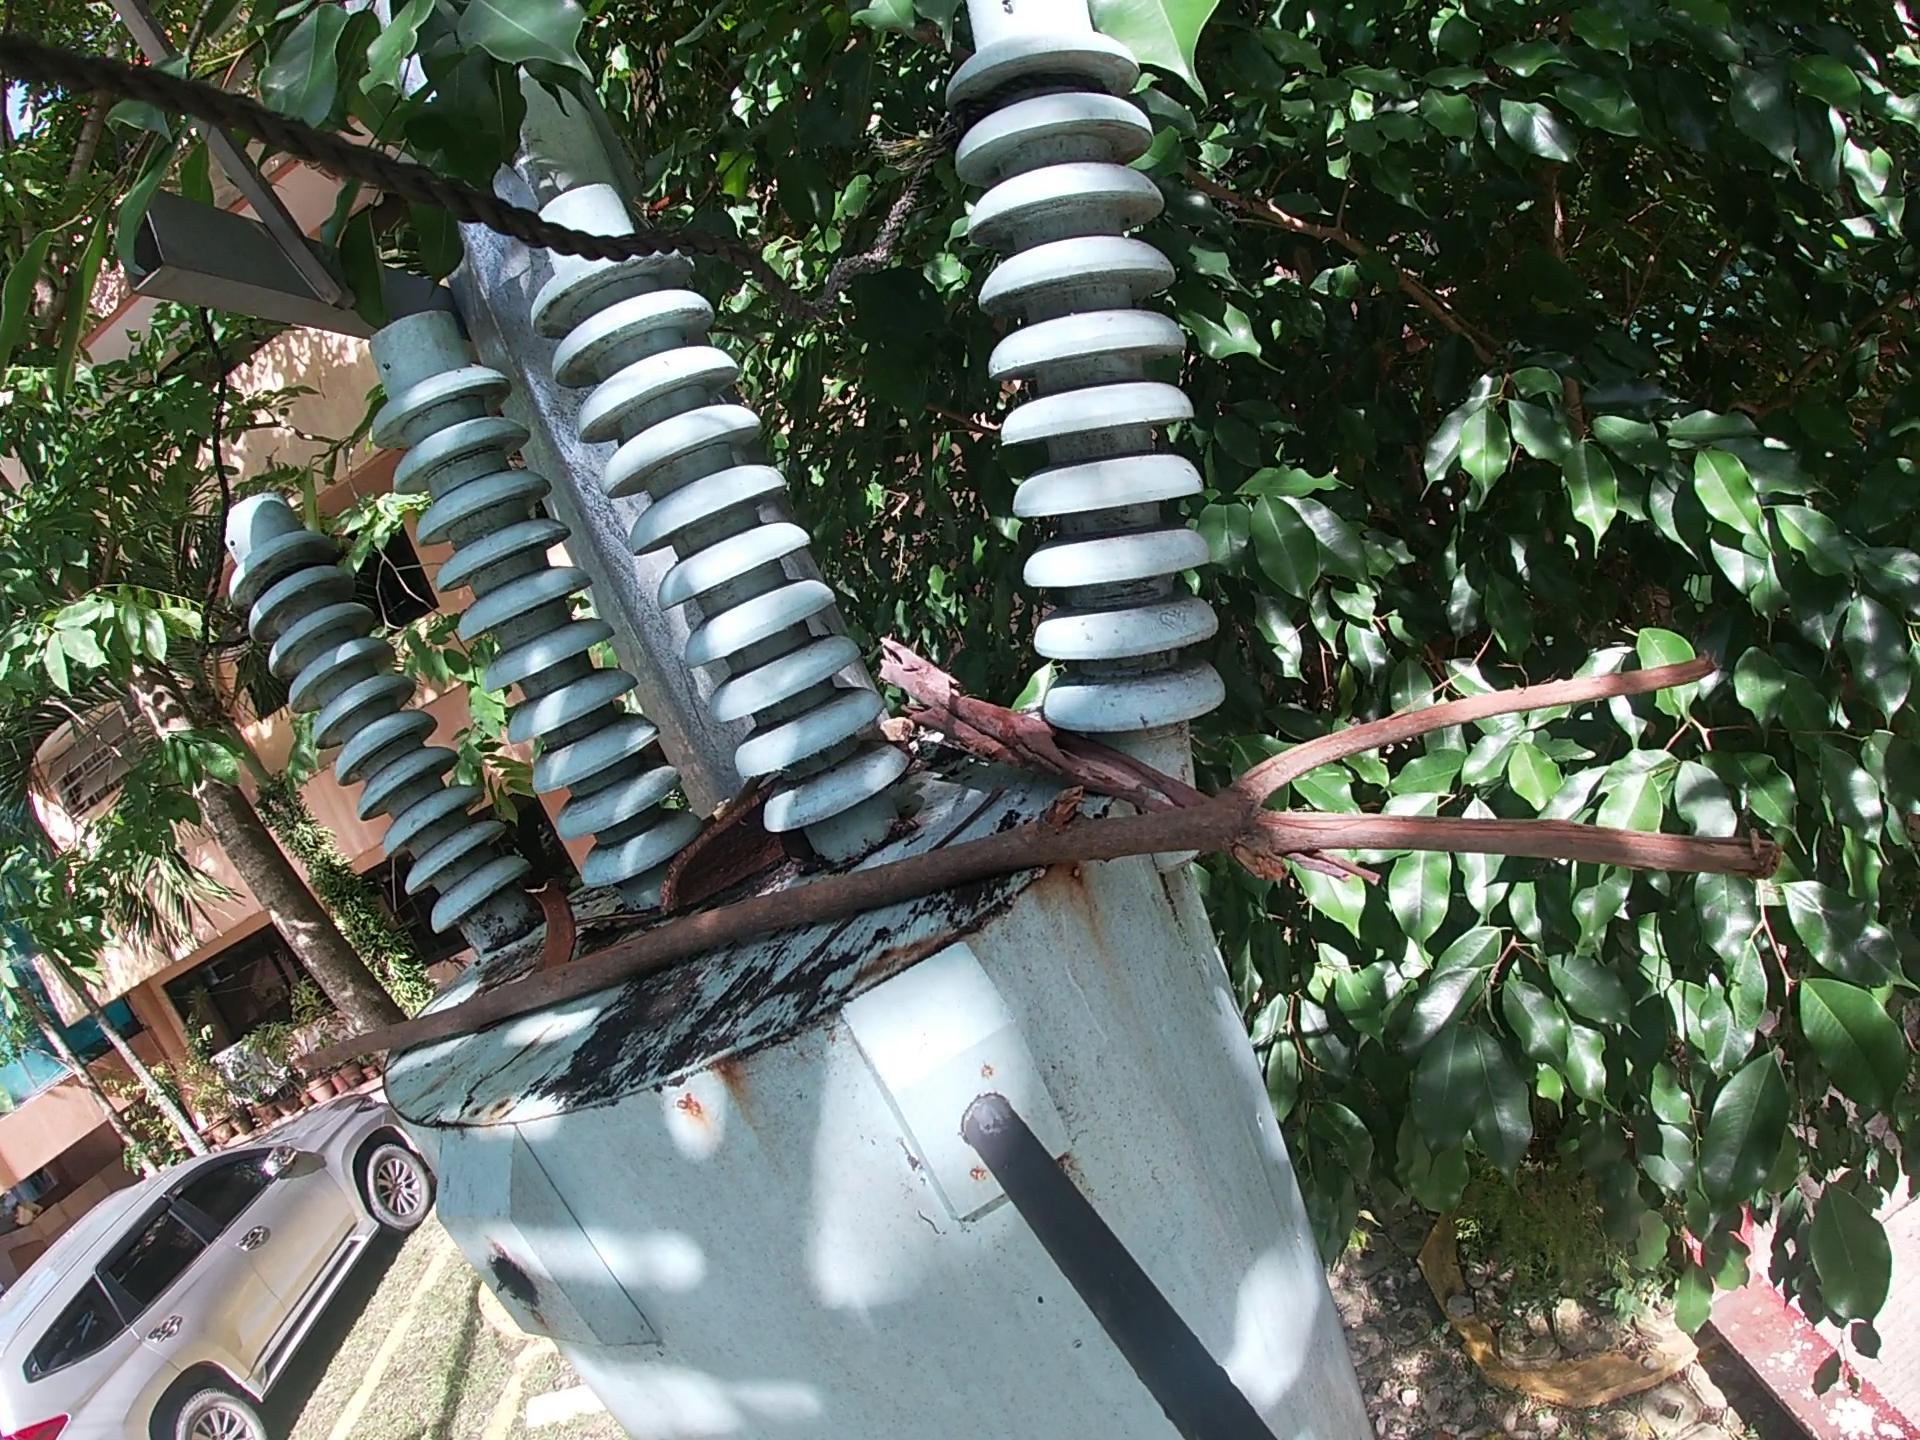mahogany fruit: (649, 770, 800, 927), (514, 877, 582, 979)
tree branch: (280, 638, 1791, 1095), (872, 628, 1392, 908)
